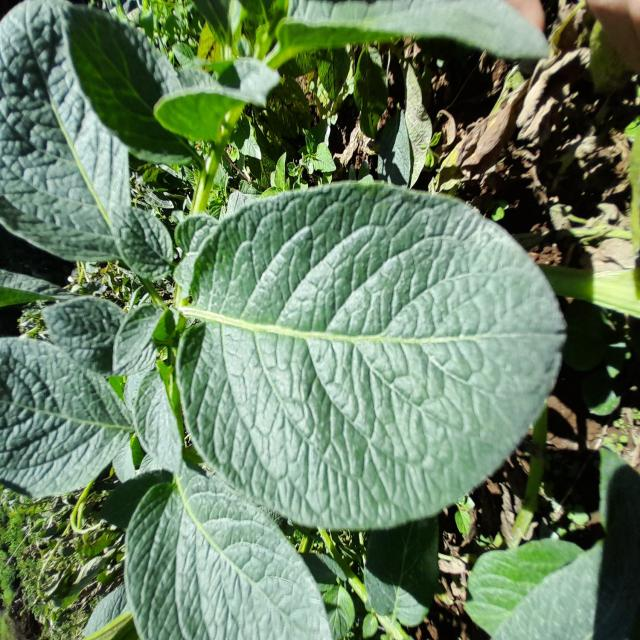healthy: (168, 179, 568, 533)
